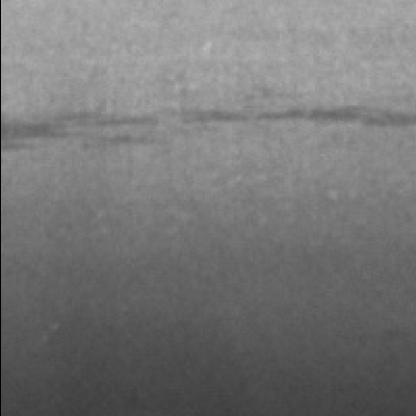inclusion: (142, 88, 414, 148), (0, 102, 162, 154)
